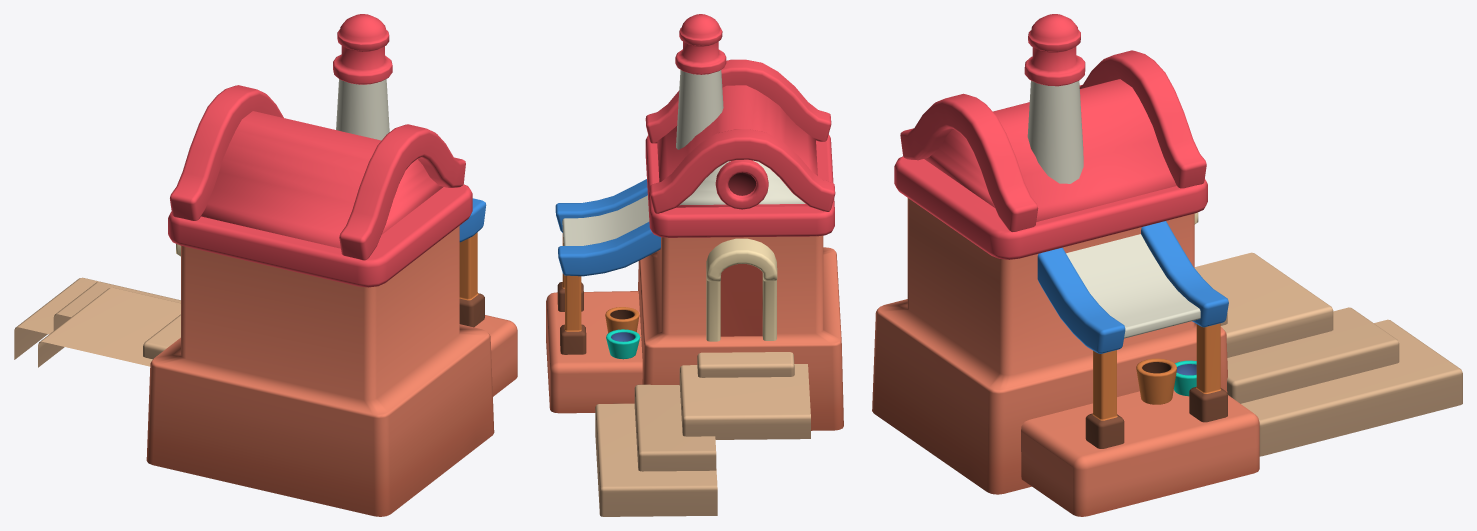
File: House (1).fbx
3 views of the same model, side by side, from view 1: azimuth 30°, elevation 25°; view 2: azimuth 150°, elevation 25°; view 3: azimuth 270°, elevation 25° (orthographic). The views are drawn at different scales.
Parts seen in each view (by area): view 1: House3; view 2: House3; view 3: House3.
Part boxes in pixels (<box>): House3: <box>14,14,517,516</box>; House3: <box>546,14,843,516</box>; House3: <box>872,14,1462,516</box>.
Size of the model in its own units: 7.69 by 7.82 by 9.78.
